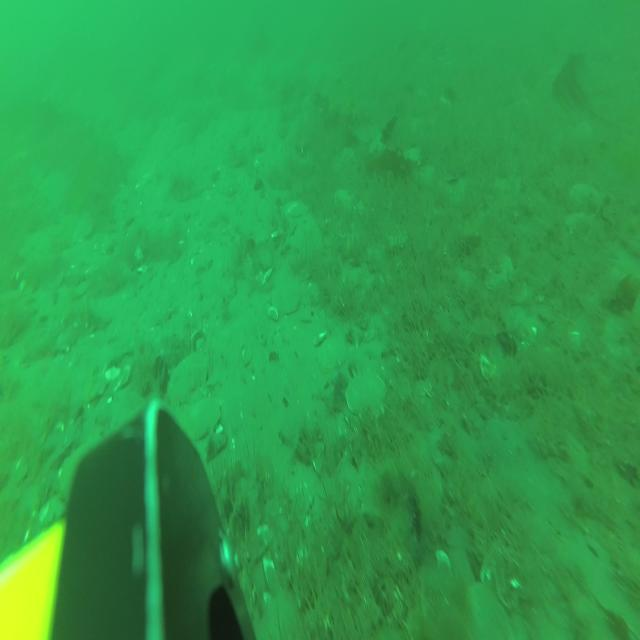scallop: (465, 584, 511, 640), (167, 351, 208, 407), (346, 369, 386, 422), (188, 396, 222, 442), (570, 182, 602, 214), (317, 338, 346, 373), (272, 278, 299, 314), (485, 255, 514, 288), (566, 212, 591, 238), (284, 198, 308, 220)
